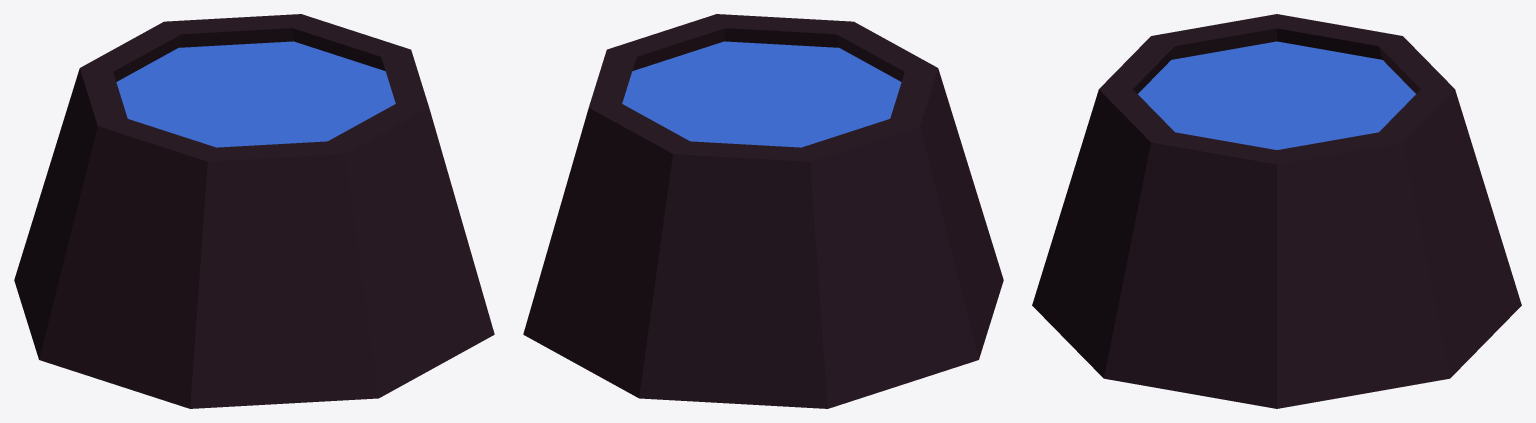
The model's file is dogmisc.fbx.
The picture shows the model from 3 angles, left to right: view 1: azimuth 30°, elevation 25°; view 2: azimuth 150°, elevation 25°; view 3: azimuth 270°, elevation 25°; orthographic projection.
Visible parts, largest first — view 1: Cylinder.003, Cylinder.002; view 2: Cylinder.003, Cylinder.002; view 3: Cylinder.003, Cylinder.002.
Boxes of the visible parts, bbox=[...] form: Cylinder.003: bbox=[14, 14, 494, 408]; Cylinder.002: bbox=[116, 41, 395, 147]; Cylinder.003: bbox=[523, 14, 1003, 408]; Cylinder.002: bbox=[622, 41, 901, 147]; Cylinder.003: bbox=[1032, 14, 1521, 408]; Cylinder.002: bbox=[1138, 41, 1415, 149].
Bounding box in the file's own units: 400 × 195 × 400.
